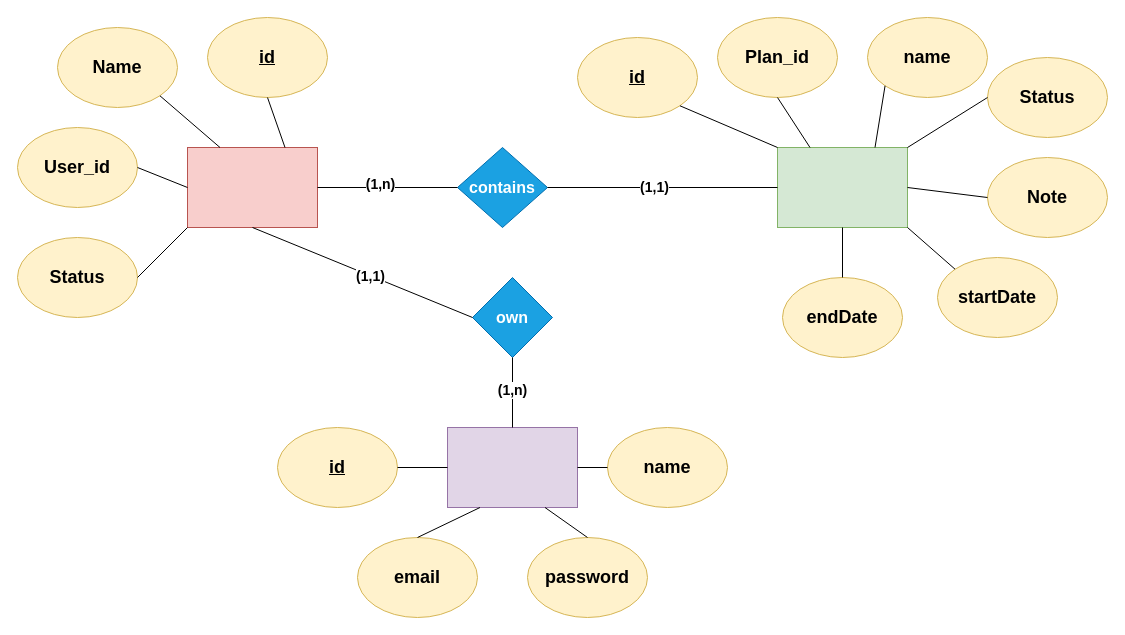
The diagram is 1125 pixels wide and 635 high, and some of its shapes have lost their labels. The shapes that lost their labels are listed below. From the top down, each one's centre as x and y in pixels, then its label:
[252,187]: Plan
[842,187]: Task
[512,467]: User
